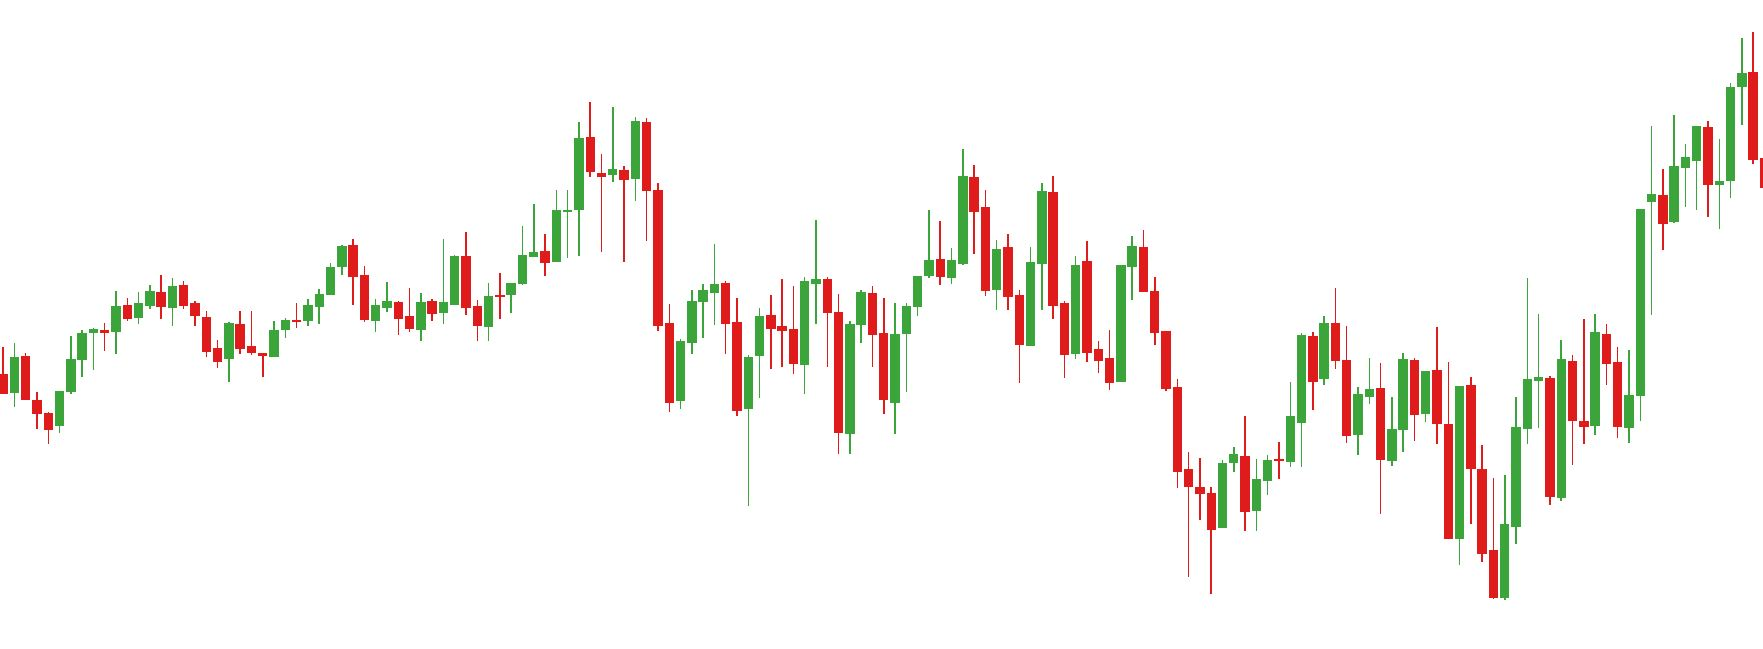buy: (1206, 413, 1508, 602), (663, 333, 754, 504), (412, 271, 492, 343)
sell: (1070, 229, 1151, 331)
